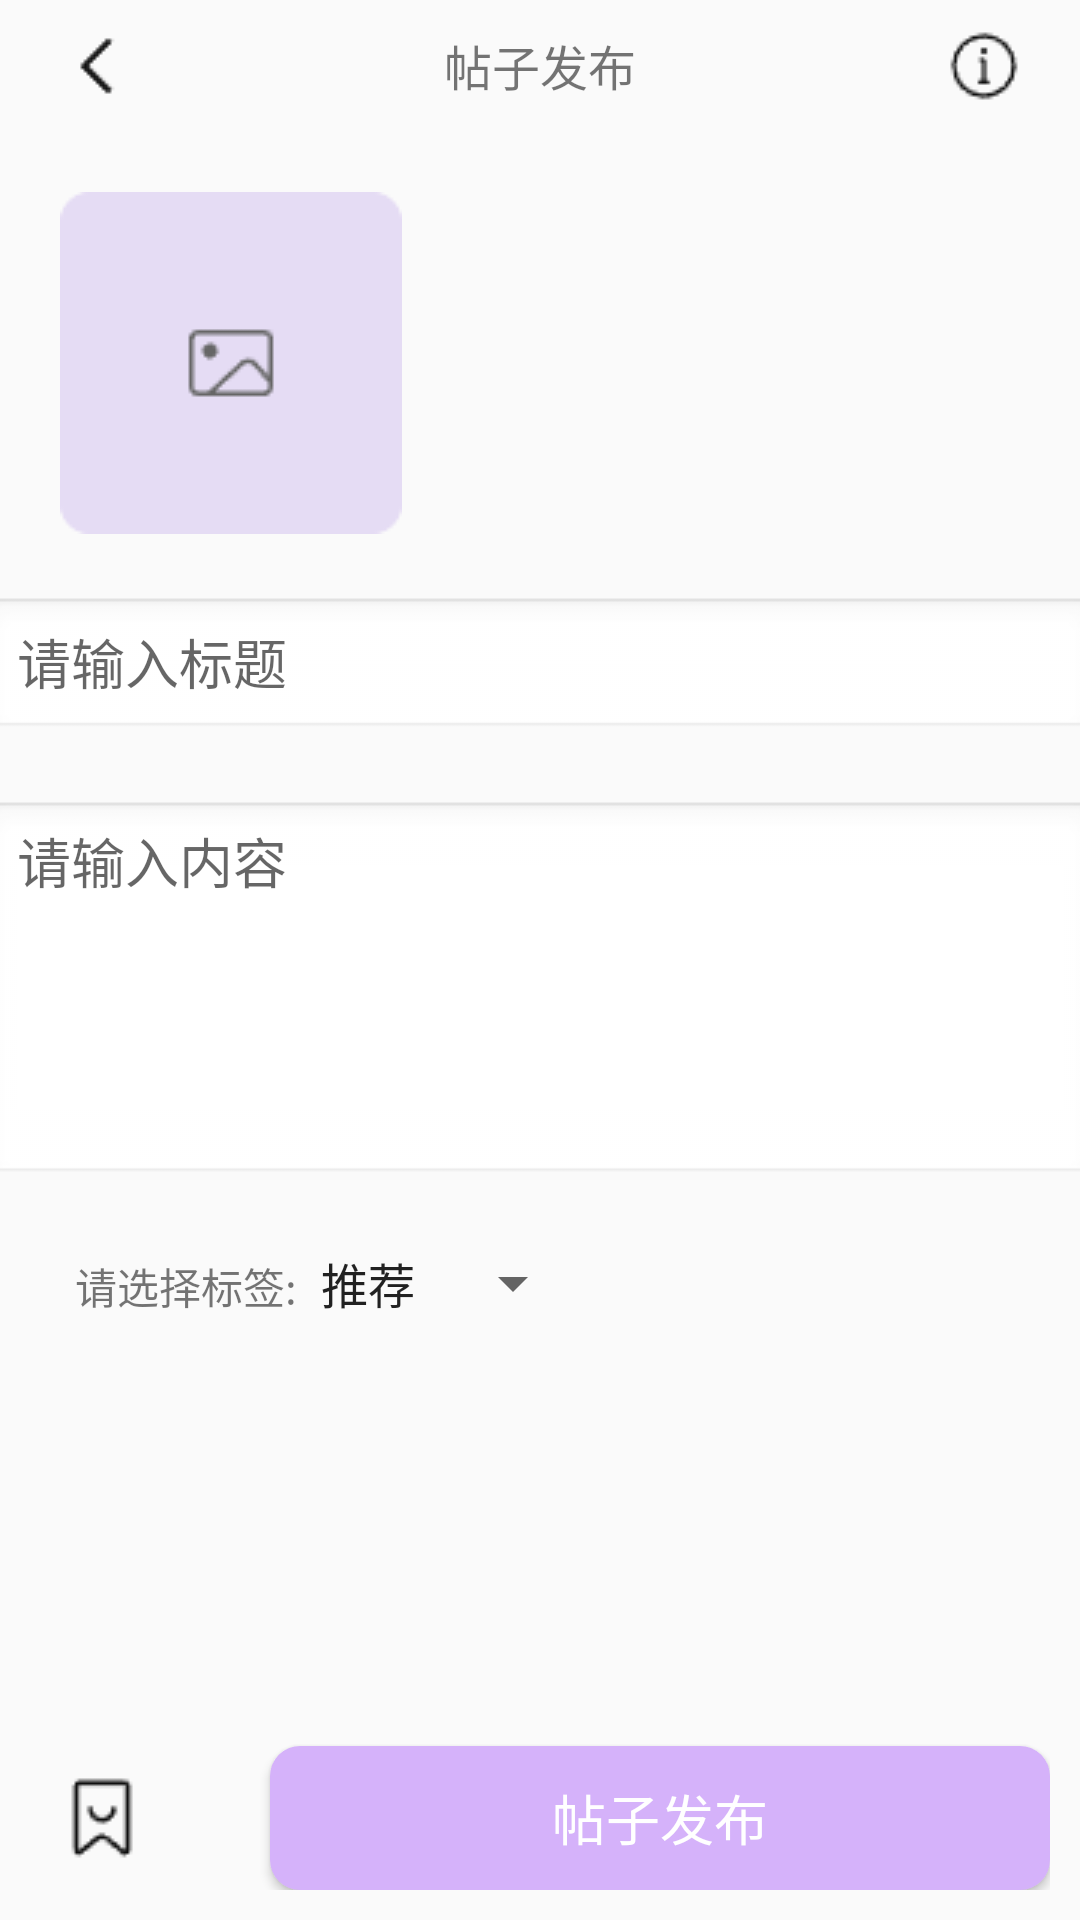

Icon click points for this 1080w x 1920h phone screenshot, format [x,y]:
addimg: [231,363]
bookmark: [102,1818]
info: [984,66]
